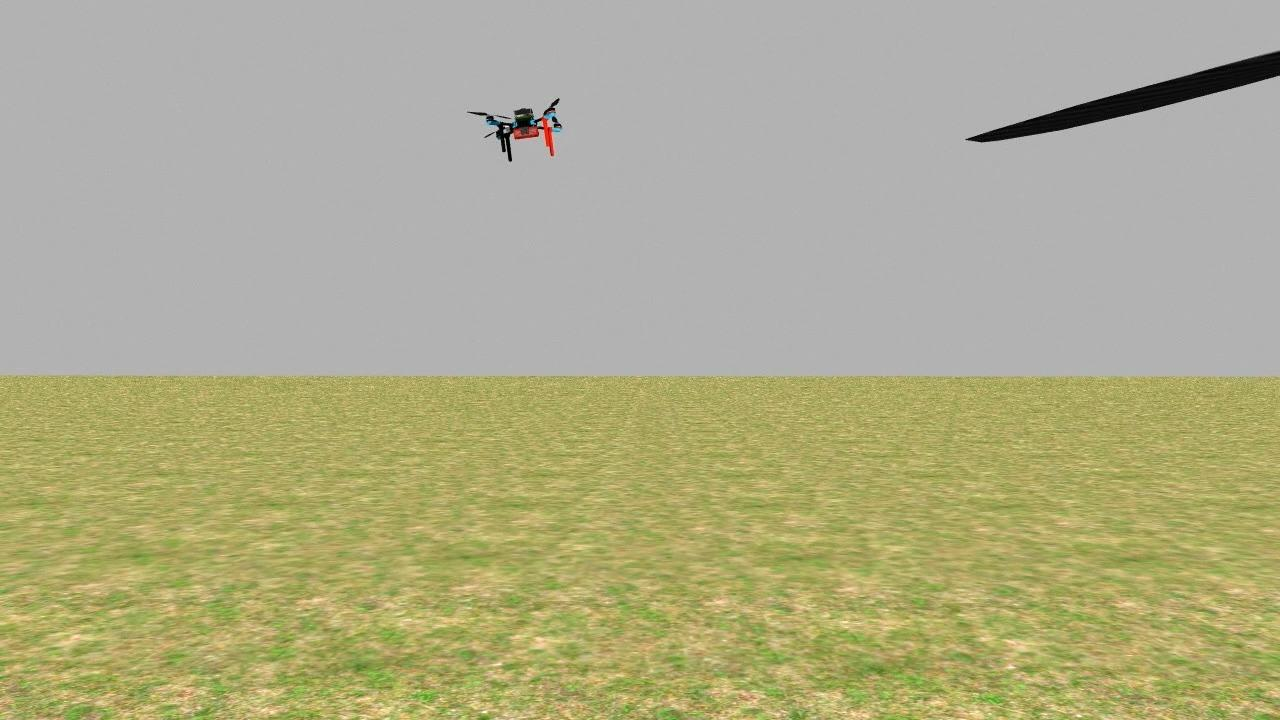UAV: (459, 88, 597, 173)
